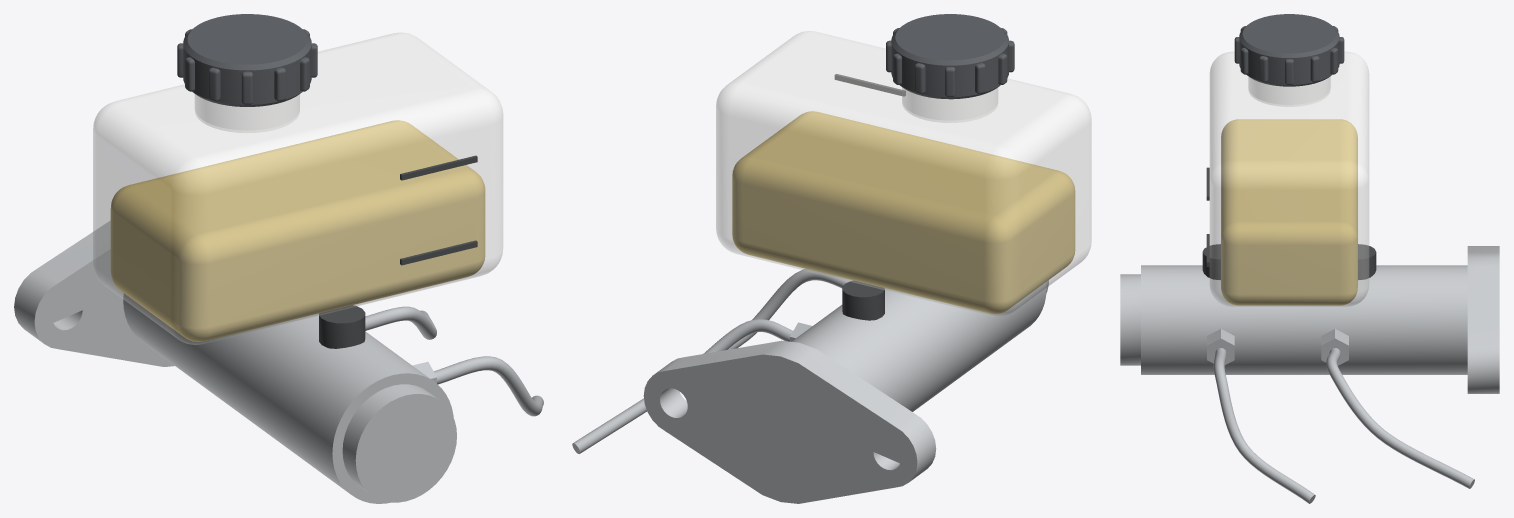
Rendered from brake_fluid_reservoir.glb.
The picture shows the model from 3 angles, left to right: view 1: azimuth 30°, elevation 25°; view 2: azimuth 150°, elevation 25°; view 3: azimuth 270°, elevation 25°; orthographic projection. The views are drawn at different scales.
Parts seen in each view (by area): view 1: reservoir, brake_fluid, master_cylinder, cap, brake_lines, level_marks; view 2: reservoir, brake_fluid, master_cylinder, cap, brake_lines; view 3: reservoir, master_cylinder, brake_fluid, cap, brake_lines.
Boxes of the visible parts, x1,y1,x2,y2 form: reservoir: [93, 32, 502, 344]; brake_fluid: [110, 120, 485, 341]; master_cylinder: [14, 220, 456, 503]; cap: [177, 14, 317, 106]; brake_lines: [365, 306, 543, 416]; level_marks: [400, 155, 477, 265]; reservoir: [716, 31, 1091, 316]; brake_fluid: [732, 111, 1075, 314]; master_cylinder: [643, 280, 1048, 503]; cap: [886, 14, 1014, 99]; brake_lines: [572, 269, 852, 453]; reservoir: [1210, 52, 1368, 306]; master_cylinder: [1120, 244, 1499, 393]; brake_fluid: [1221, 119, 1357, 305]; cap: [1234, 14, 1344, 86]; brake_lines: [1207, 329, 1474, 503].
Size of the model in its own units: 167 by 171 by 166.
